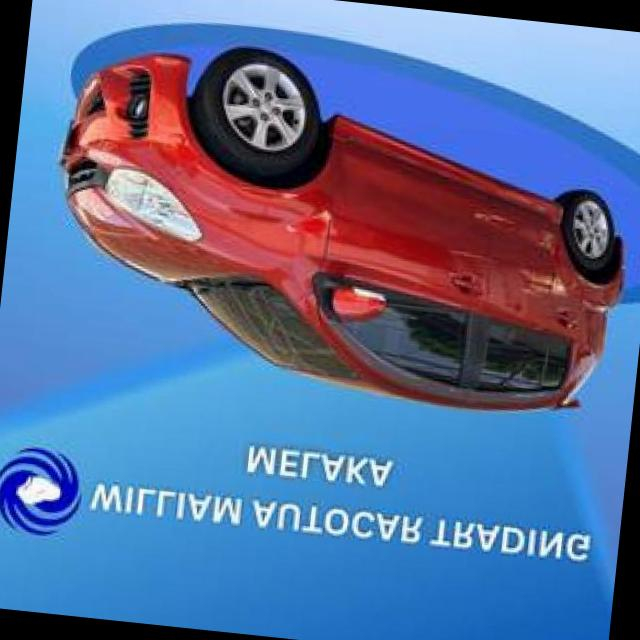PeroduaMyvi: (34, 27, 640, 430)
